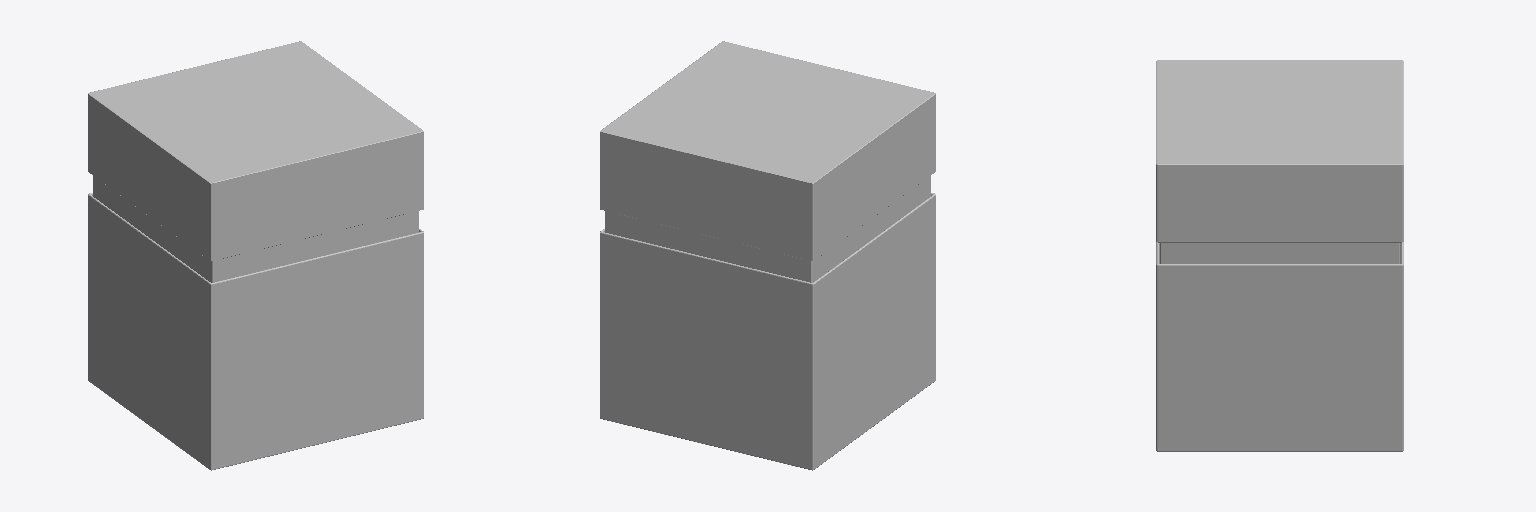
File: lamp.obj
3 renders of one model, left to right at view 1: azimuth 30°, elevation 25°; view 2: azimuth 150°, elevation 25°; view 3: azimuth 270°, elevation 25°, orthographic.
Parts seen in each view (by area): view 1: box_bottom_Cube.002, top_Cube.002, inner_Cube.001; view 2: box_bottom_Cube.002, top_Cube.002, inner_Cube.001; view 3: box_bottom_Cube.002, top_Cube.002, inner_Cube.001.
Boxes of the visible parts, x1,y1,x2,y2 form: box_bottom_Cube.002: [88, 193, 423, 470]; top_Cube.002: [88, 41, 423, 260]; inner_Cube.001: [93, 176, 418, 282]; box_bottom_Cube.002: [600, 193, 935, 470]; top_Cube.002: [600, 41, 935, 260]; inner_Cube.001: [605, 176, 930, 282]; box_bottom_Cube.002: [1156, 242, 1403, 451]; top_Cube.002: [1156, 60, 1403, 242]; inner_Cube.001: [1160, 243, 1399, 263].
Size of the model in its own units: 2 by 2.57 by 2.